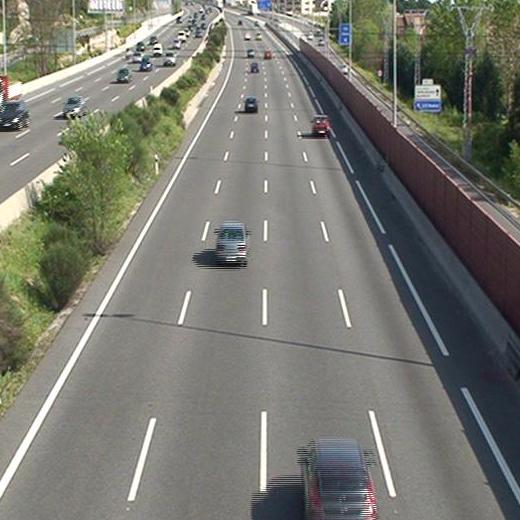car: (299, 440, 376, 520), (215, 223, 247, 263), (311, 115, 329, 137), (244, 97, 258, 113), (250, 61, 259, 73), (262, 48, 271, 59), (246, 48, 255, 56)
